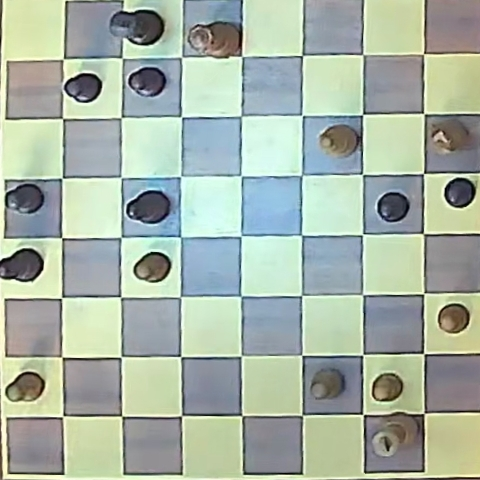black-bishop: (125, 190, 170, 225), (0, 248, 44, 282)
black-king: (110, 9, 164, 46)
black-pawn: (5, 183, 44, 214), (127, 67, 166, 97), (64, 72, 102, 102), (377, 192, 410, 222), (444, 178, 475, 208)
white-bishop: (320, 125, 359, 157)
white-king: (370, 415, 418, 458)
white-knight: (430, 119, 470, 154)
white-pawn: (5, 372, 45, 403), (134, 252, 171, 283), (310, 369, 342, 400), (438, 304, 468, 334), (372, 373, 403, 402)
white-queen: (188, 21, 241, 57)
